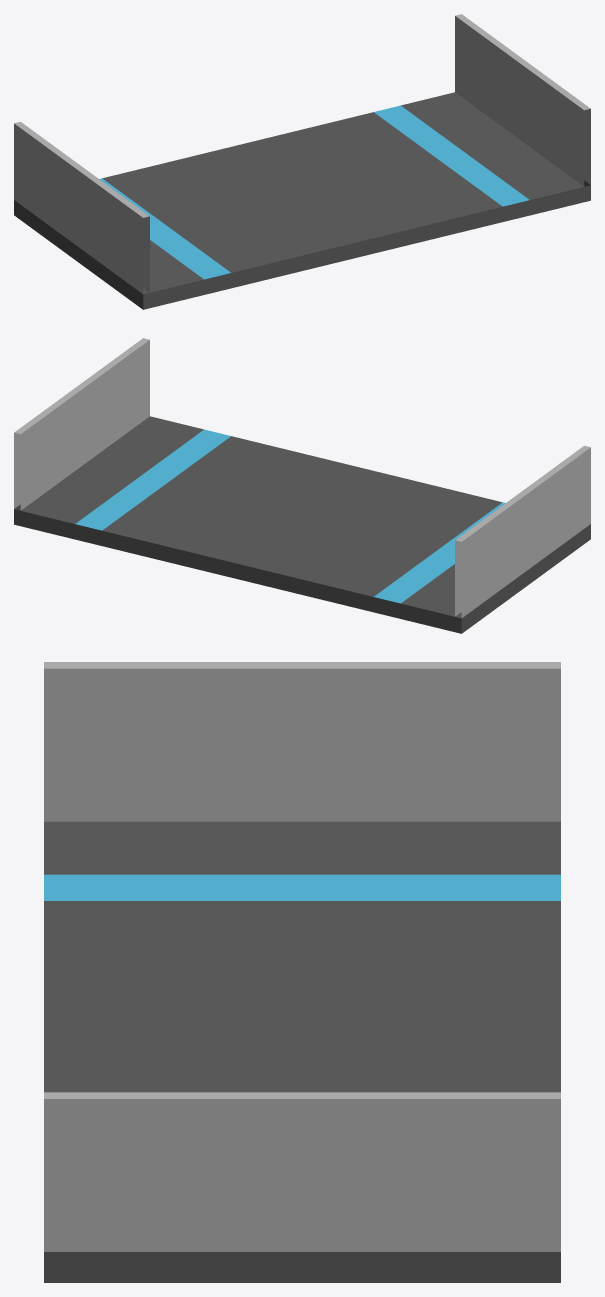
File: trak_lightning_s_pasikmi.fbx
3 renders of one model, top to bottom at view 1: azimuth 30°, elevation 25°; view 2: azimuth 150°, elevation 25°; view 3: azimuth 270°, elevation 25°, orthographic. The views are drawn at different scales.
Visible parts, largest first — view 1: pPlane12.001; view 2: pPlane12.001; view 3: pPlane12.001.
Boxes of the visible parts, <box> form: pPlane12.001: <box>14,14,590,309</box>; pPlane12.001: <box>14,338,590,633</box>; pPlane12.001: <box>44,662,560,1282</box>.
Bounding box in the file's own units: 200 × 39.25 × 100.
